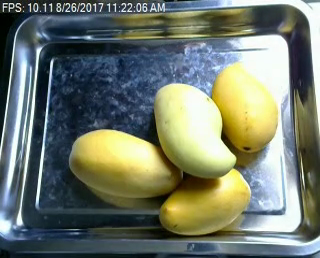Mango: (69, 128, 182, 197), (153, 83, 235, 177), (158, 168, 250, 234), (214, 62, 279, 151)
